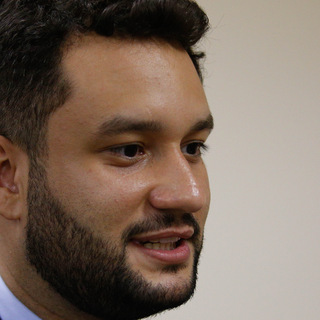eye: (100, 139, 151, 164), (176, 139, 210, 161)
